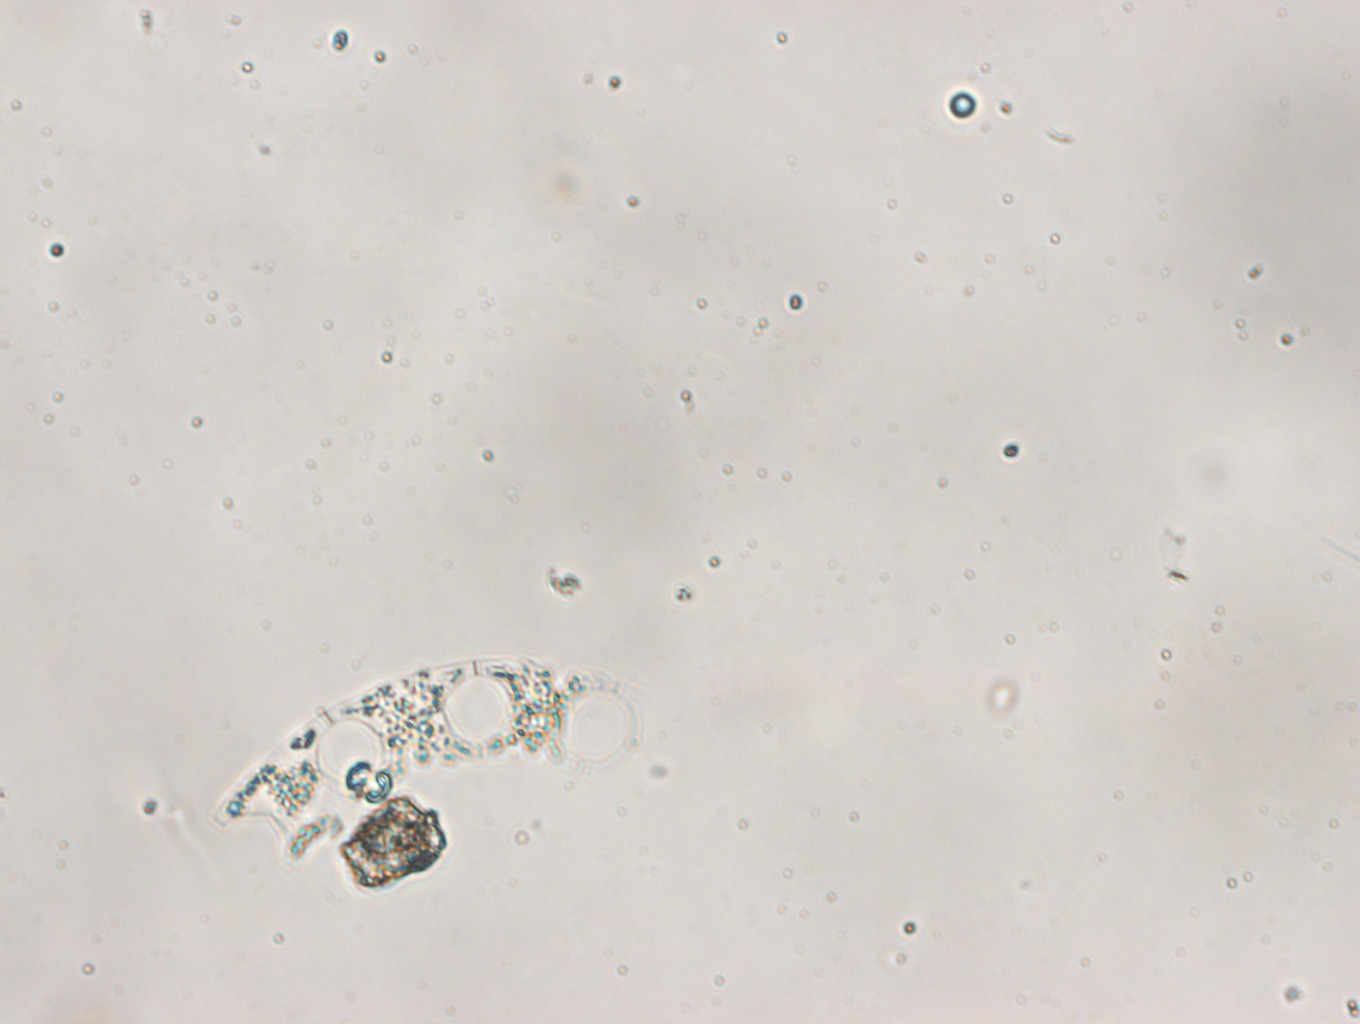eucampia: (213, 660, 664, 859)
